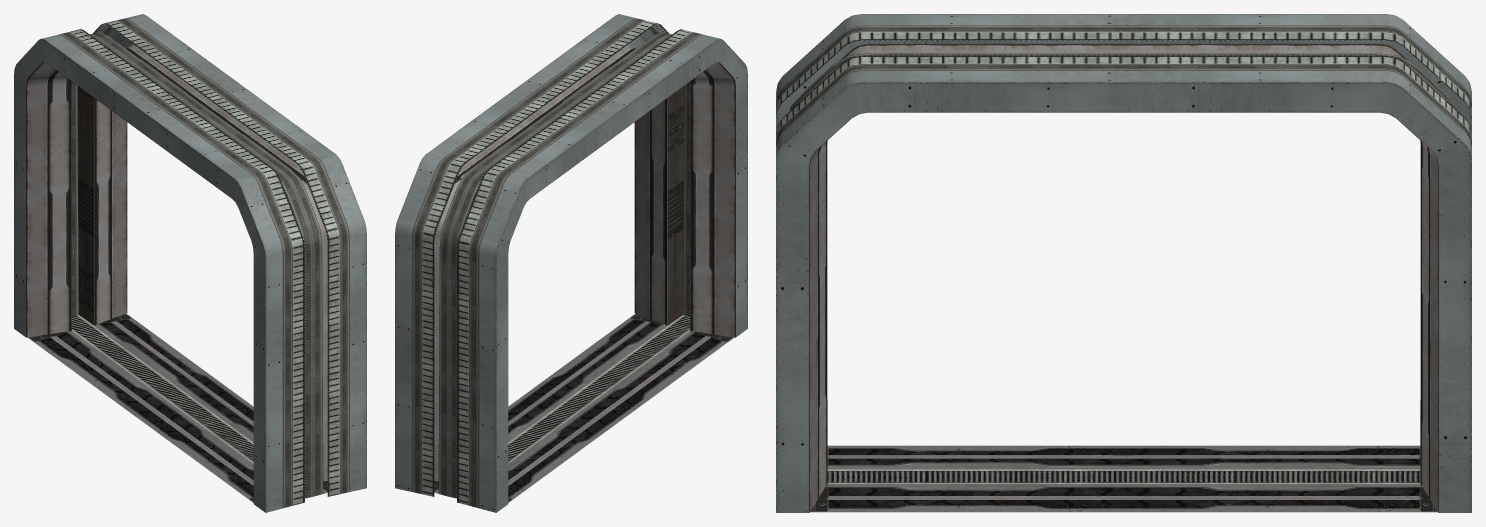
Rendered from Door_frame_5mts_Thicker.fbx.
The picture shows the model from 3 angles, left to right: view 1: azimuth 30°, elevation 25°; view 2: azimuth 150°, elevation 25°; view 3: azimuth 270°, elevation 25°; orthographic projection. The views are drawn at different scales.
Visible parts, largest first — view 1: Door_frame_5mts; view 2: Door_frame_5mts; view 3: Door_frame_5mts.
Part boxes in pixels (x1,y1,x2,y2): Door_frame_5mts: (14,14,366,512); Door_frame_5mts: (395,14,747,512); Door_frame_5mts: (776,14,1471,512).
Size of the model in its own units: 102 by 301 by 441.
1 material, 1 textured.
